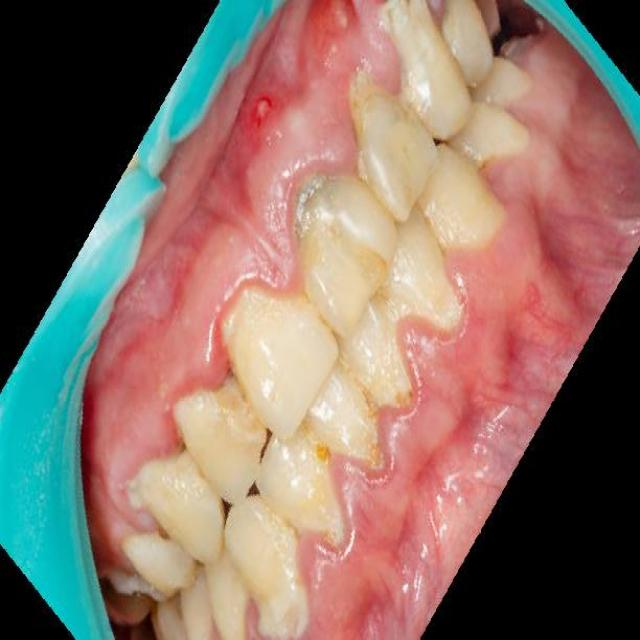calculus: (272, 157, 403, 301), (329, 61, 429, 206), (262, 434, 358, 538), (190, 373, 274, 466), (333, 395, 408, 494), (239, 541, 313, 640)
